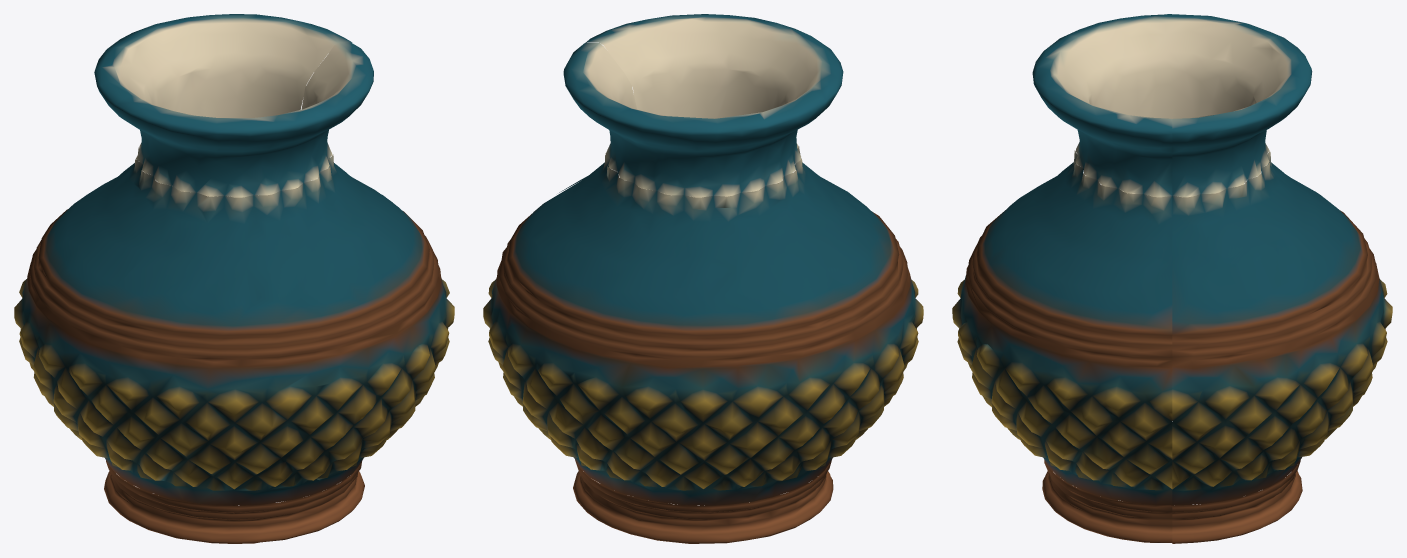
The model's file is vase_blender_optimized.glb.
The picture shows the model from 3 angles, left to right: view 1: azimuth 30°, elevation 25°; view 2: azimuth 150°, elevation 25°; view 3: azimuth 270°, elevation 25°; orthographic projection.
Visible parts, largest first — view 1: vase_low; view 2: vase_low; view 3: vase_low.
Boxes of the visible parts, x1,y1,x2,y2 form: vase_low: (14,14,454,543); vase_low: (483,14,923,543); vase_low: (952,14,1392,543).
Size of the model in its own units: 1.83 by 1.95 by 1.83.
